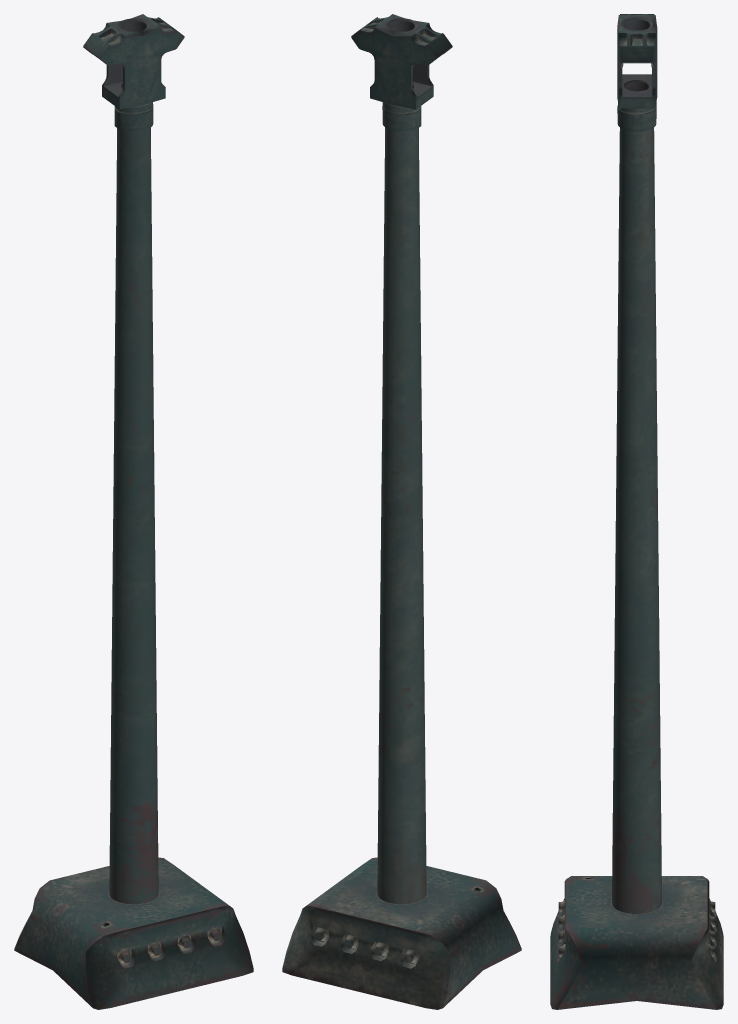
Rendered from Gun_08.glb.
The picture shows the model from 3 angles, left to right: view 1: azimuth 30°, elevation 25°; view 2: azimuth 150°, elevation 25°; view 3: azimuth 270°, elevation 25°; orthographic projection.
Visible parts, largest first — view 1: set_0_group_0; view 2: set_0_group_0; view 3: set_0_group_0.
Boxes of the visible parts, x1,y1,x2,y2 form: set_0_group_0: (14, 14, 253, 1009); set_0_group_0: (282, 14, 521, 1009); set_0_group_0: (550, 14, 723, 1009).
Size of the model in its own units: 0.6379 by 3.5 by 0.5822.
1 material, 1 textured.
